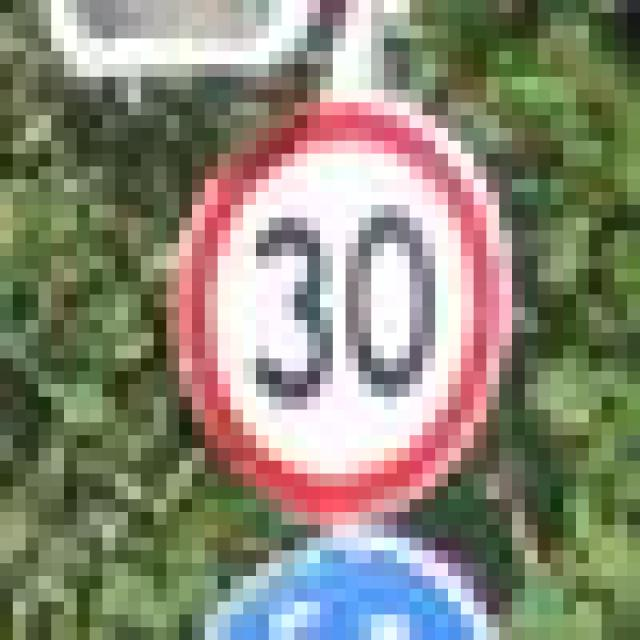SPEED_LIMIT_30: (141, 77, 512, 525)
